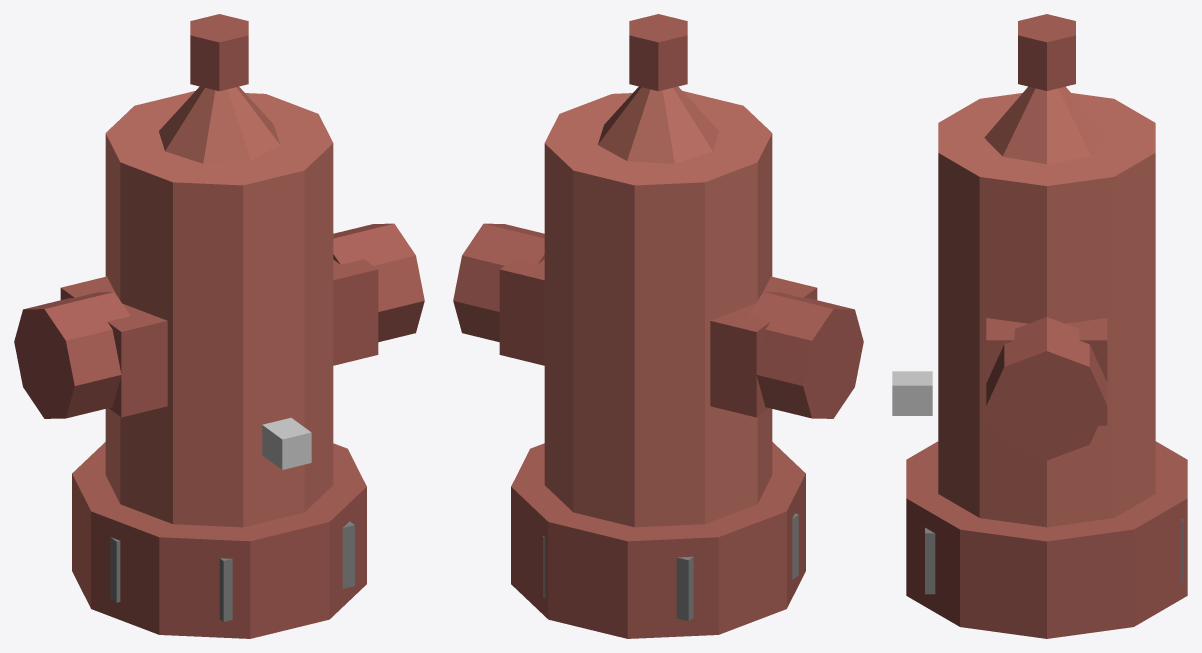
Rendered from hydrant.glb.
3 views of the same model, side by side, from view 1: azimuth 30°, elevation 25°; view 2: azimuth 150°, elevation 25°; view 3: azimuth 270°, elevation 25° (orthographic).
Visible parts, largest first — view 1: Mesh; view 2: Mesh; view 3: Mesh.
Boxes of the visible parts, left/top/right/bottom form: Mesh: left=14, top=14, right=424, bottom=638; Mesh: left=453, top=14, right=863, bottom=638; Mesh: left=892, top=14, right=1187, bottom=638.
Bounding box in the file's own units: 0.6 × 0.9 × 0.4392.
